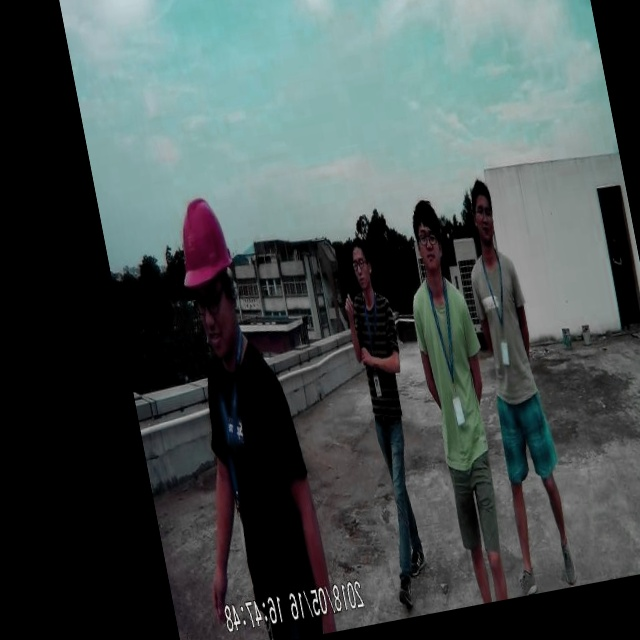Sin_Casco_Mascarrilla: (408, 195, 450, 273), (466, 178, 500, 243)
Sin_Chaleco: (408, 270, 495, 447), (465, 244, 539, 390)
